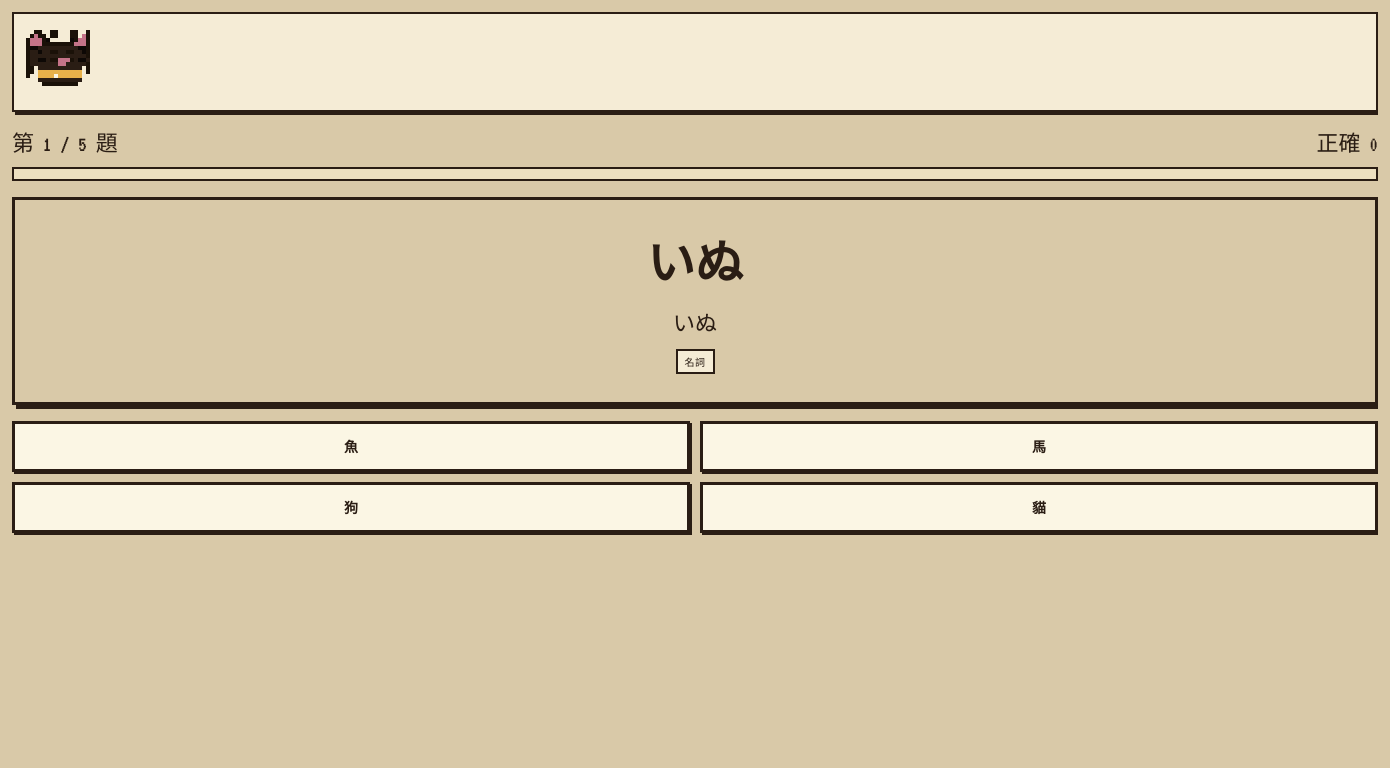
Test: VocabQuiz › shows "下一題" button after picking when autoNext is off
What coordinates should you click on to do the following:
click the button "魚"
I would click on:
 (351, 446)
Its box is [12, 421, 690, 472].
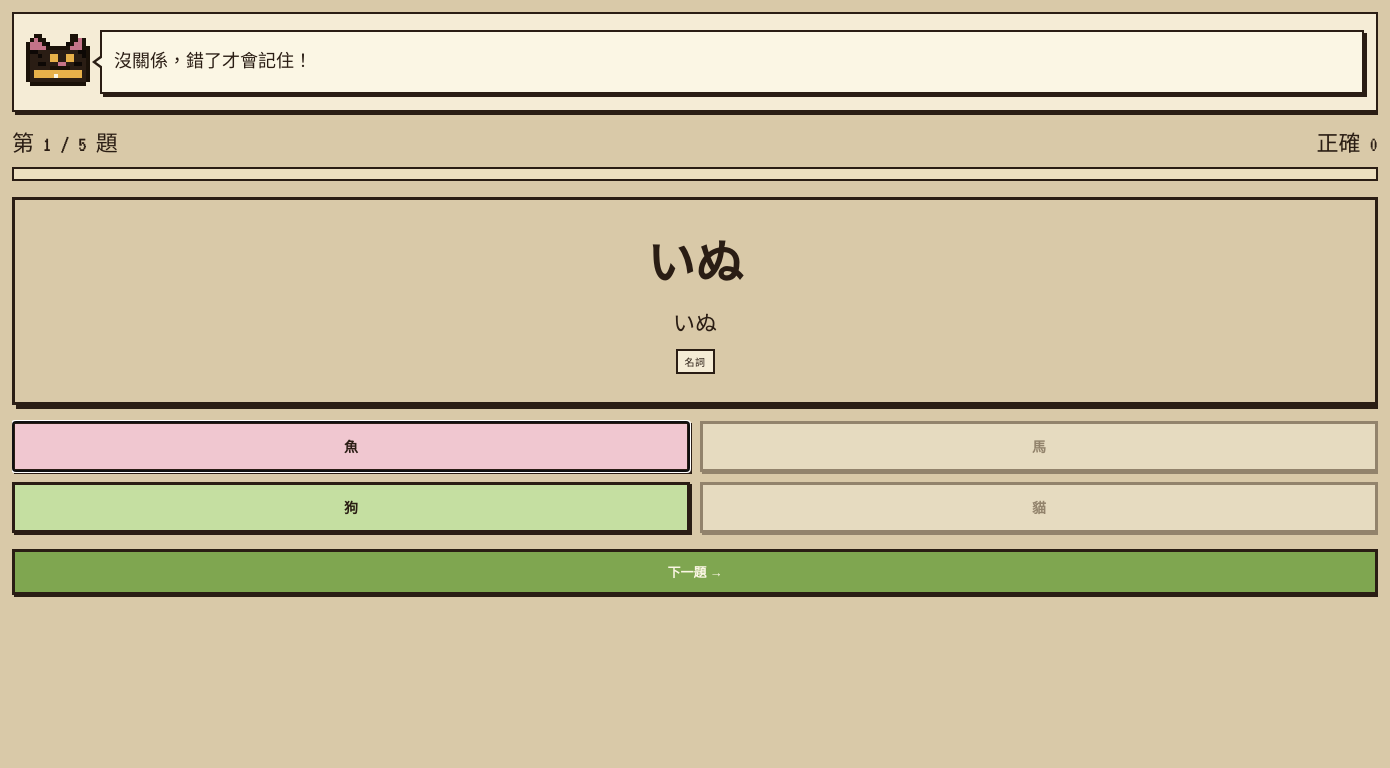
Result: the button "下一題 →" is shown at [12, 549, 1378, 594]
